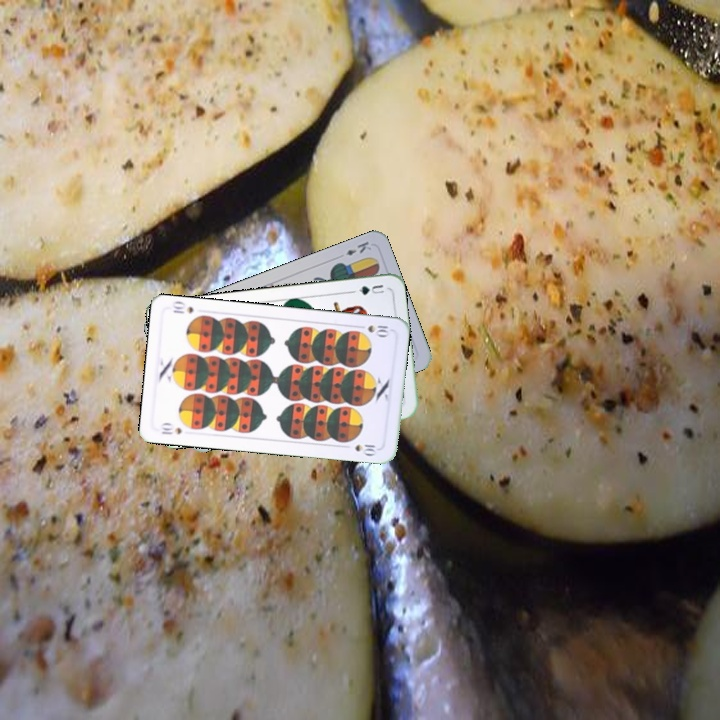EK: (342, 237, 374, 258)
GU: (348, 280, 388, 298)
S10: (364, 321, 392, 339), (156, 419, 184, 437)
